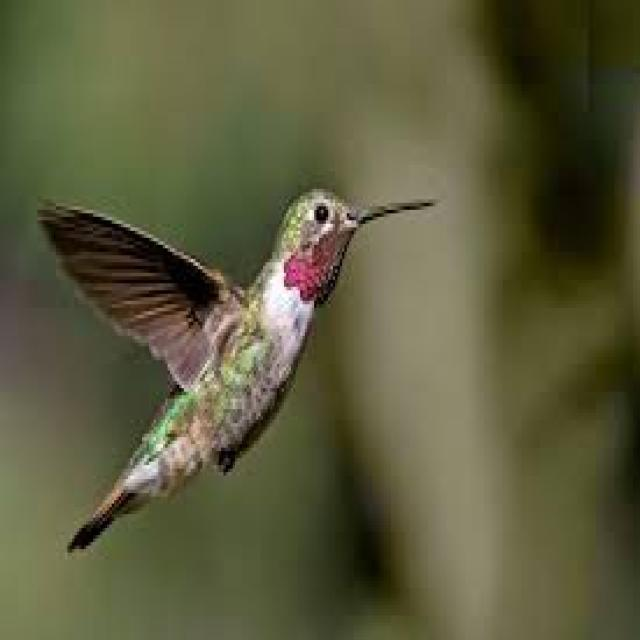Humming Bird: (35, 175, 445, 564)
